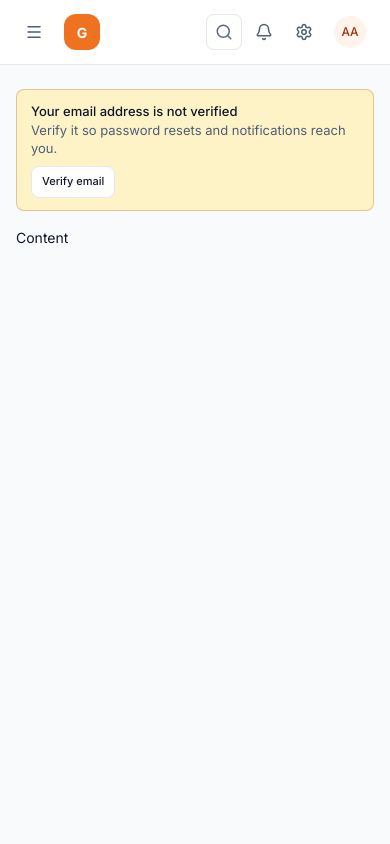
it: AppShell sidebar collapse › leaves the below-lg drawer showing the full, expanded nav regardless of the sidebar collapse state
Click the button named "Open navigation menu": (34, 32) x1=16 y1=14 x2=52 y2=50
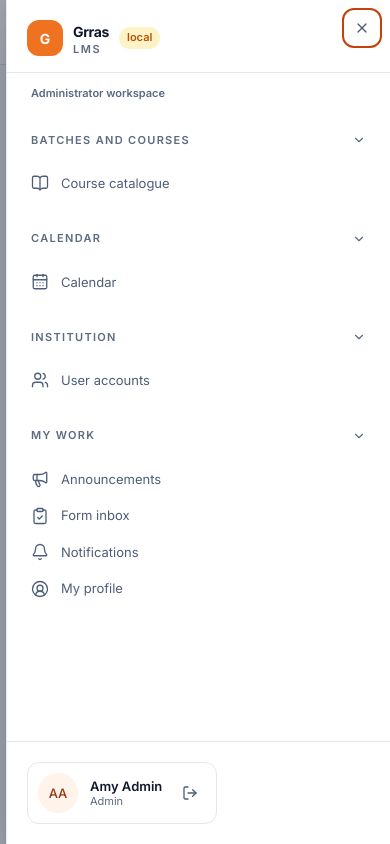
Now the link "User accounts" is shown, box x1=31 y1=372 x2=150 y2=390
